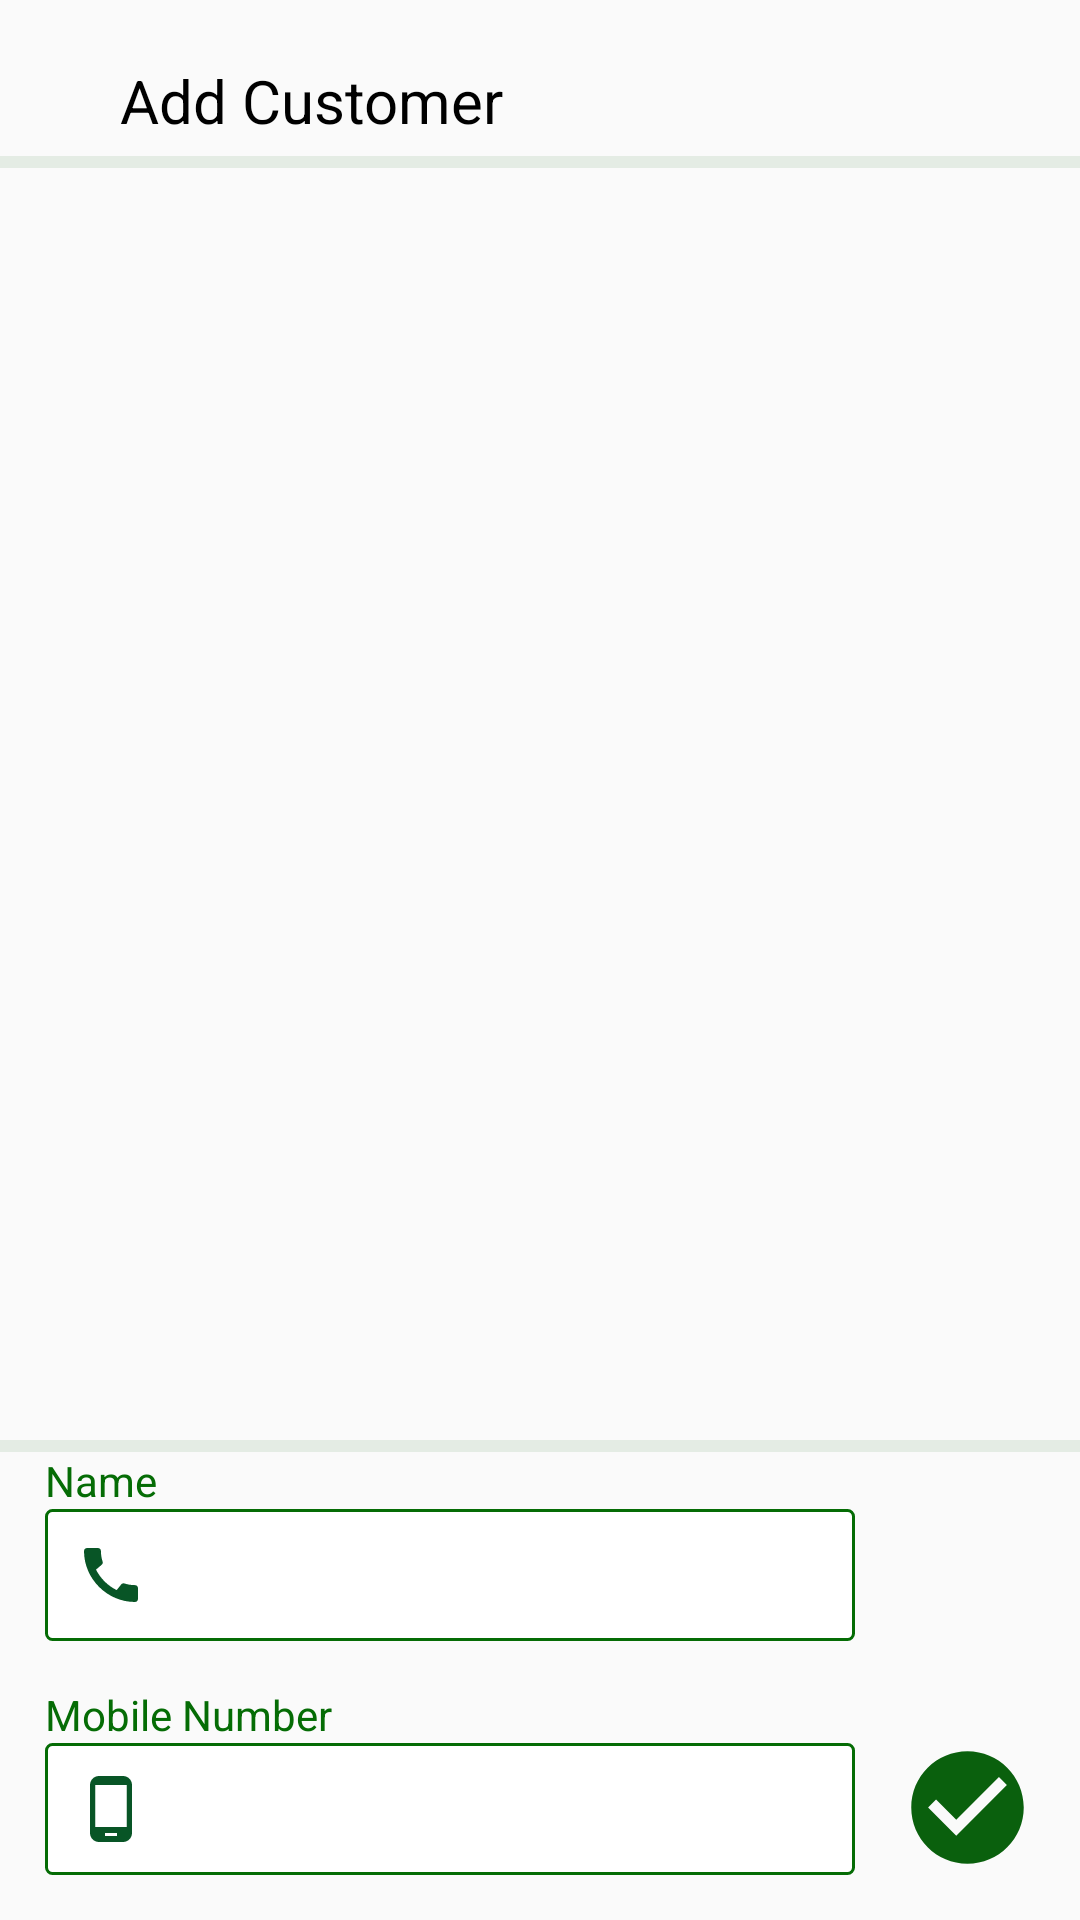

Locate icon controls on the screen. Image size 1080w x 1920h, boxes as (x1=x1, y1=y1, x2=x2, y2=y2).
check circle: (x1=911, y1=1751, x2=1024, y2=1864)
